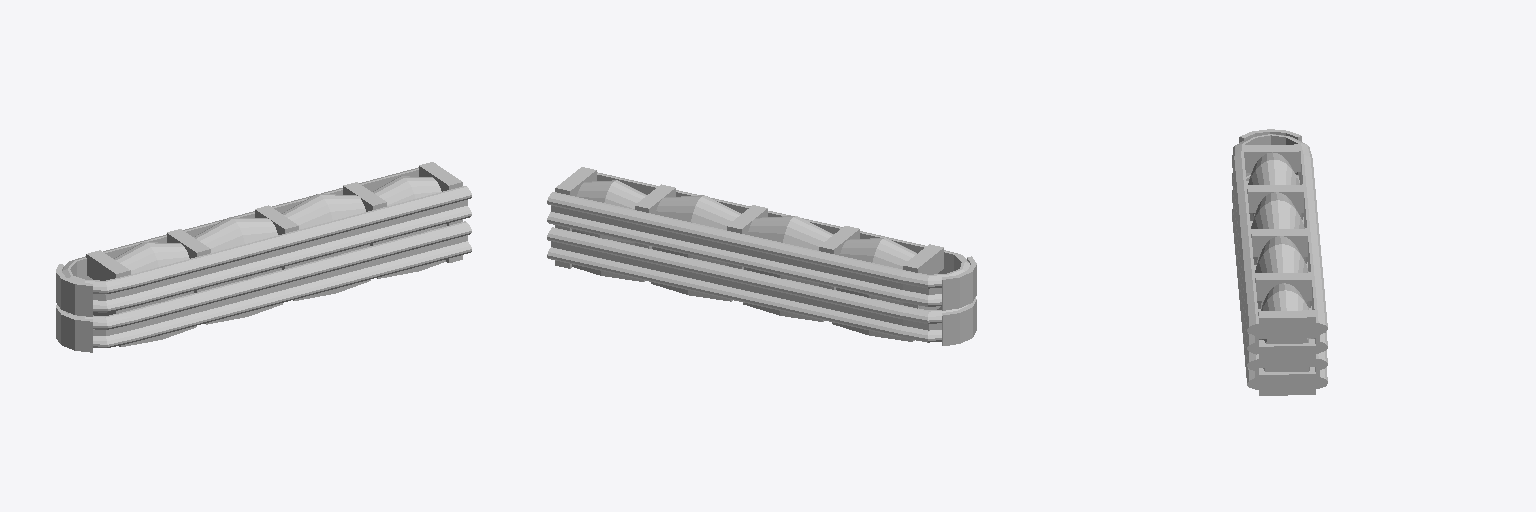
Rendered from Road8_2_11.obj.
3 renders of one model, left to right at view 1: azimuth 30°, elevation 25°; view 2: azimuth 150°, elevation 25°; view 3: azimuth 270°, elevation 25°, orthographic.
Parts seen in each view (by area): view 1: GSDAtten_Static(Clone); view 2: GSDAtten_Static(Clone); view 3: GSDAtten_Static(Clone).
Boxes of the visible parts, x1,y1,x2,y2 form: GSDAtten_Static(Clone): [56, 162, 471, 352]; GSDAtten_Static(Clone): [547, 167, 976, 345]; GSDAtten_Static(Clone): [1232, 129, 1327, 395].
Bounding box in the file's own units: 3.98 × 0.8398 × 0.8287.